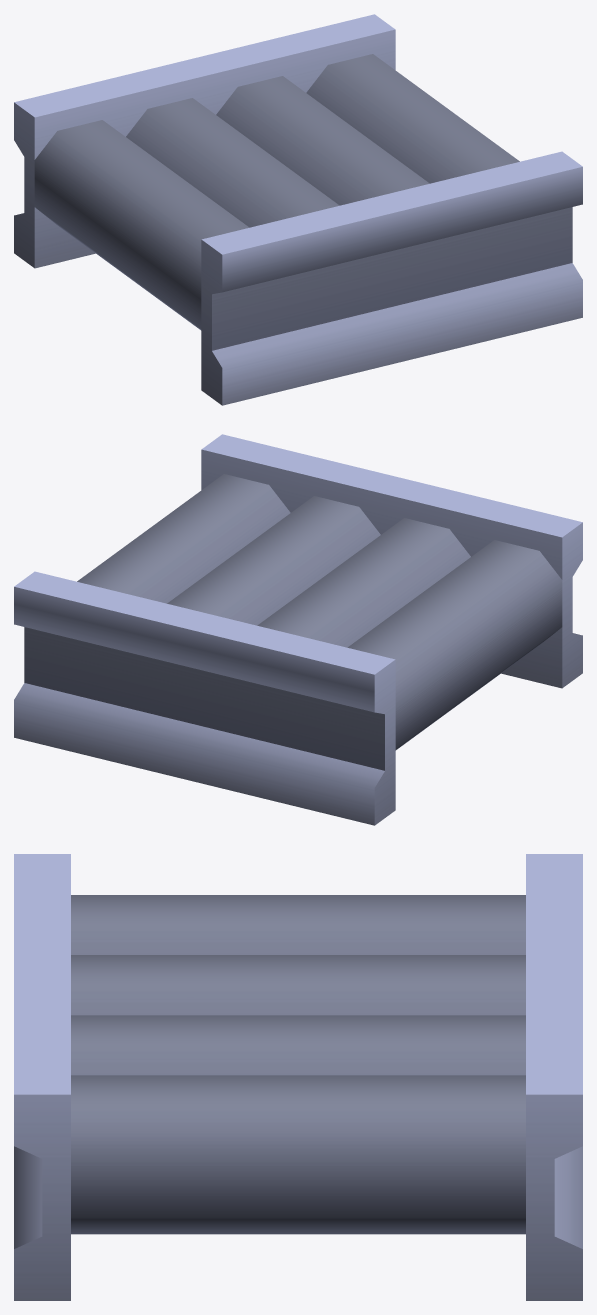
3 views of the same model, one above another, from view 1: azimuth 30°, elevation 25°; view 2: azimuth 150°, elevation 25°; view 3: azimuth 270°, elevation 25° (orthographic). The views are drawn at different scales.
Visible parts, largest first — view 1: Group, Group_1; view 2: Group, Group_1; view 3: Group_1, Group.
Boxes of the visible parts, x1,y1,x2,y2 form: Group: [14, 14, 582, 405]; Group_1: [34, 54, 519, 330]; Group: [14, 434, 582, 825]; Group_1: [77, 474, 562, 750]; Group_1: [71, 895, 525, 1234]; Group: [14, 854, 582, 1300].
Bounding box in the file's own units: 1 × 0.4 × 1.
1 material, 1 textured.
